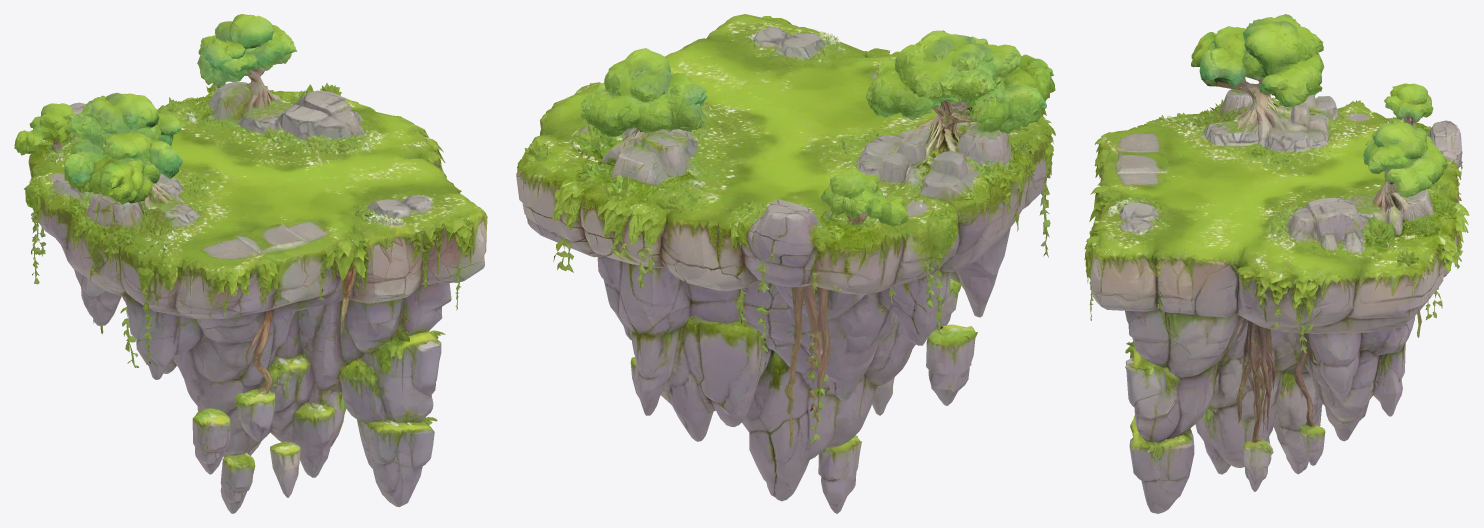
The model's file is island.glb.
3 renders of one model, left to right at view 1: azimuth 30°, elevation 25°; view 2: azimuth 150°, elevation 25°; view 3: azimuth 270°, elevation 25°, orthographic. The views are drawn at different scales.
Visible parts, largest first — view 1: Mesh_0; view 2: Mesh_0; view 3: Mesh_0.
Boxes of the visible parts, x1,y1,x2,y2 form: Mesh_0: [14, 14, 487, 513]; Mesh_0: [516, 14, 1055, 513]; Mesh_0: [1084, 14, 1469, 513].
Size of the model in its own units: 1.78 by 1.9 by 1.61.
1 material, 1 textured.
